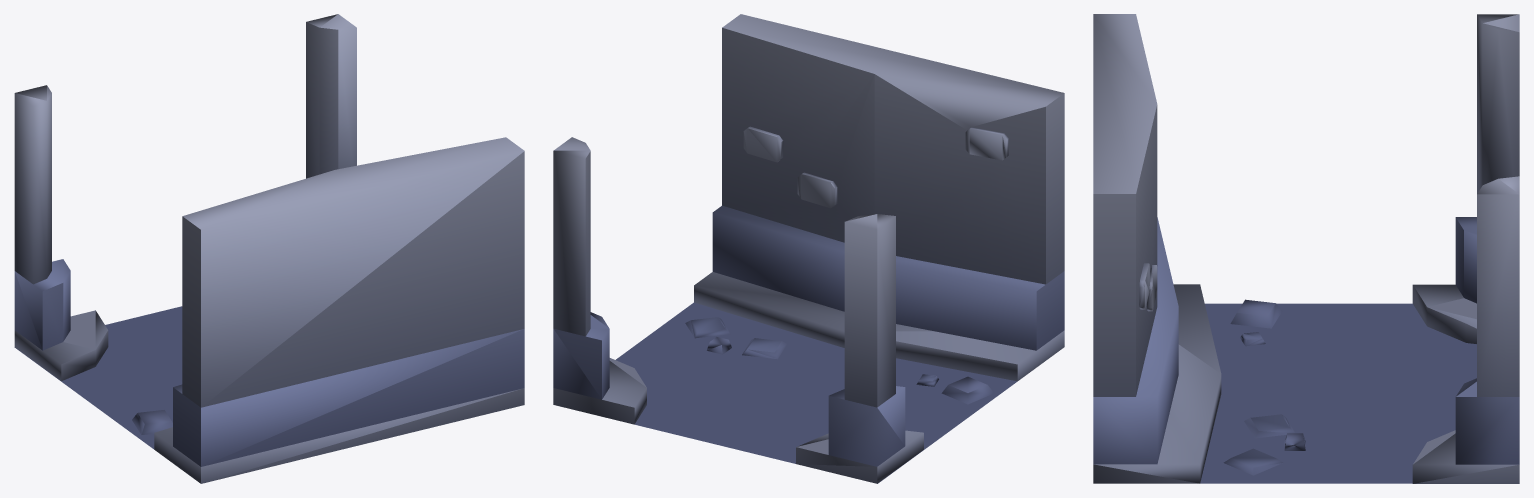
The model's file is corridor-junction_lev2.glb.
3 views of the same model, side by side, from view 1: azimuth 30°, elevation 25°; view 2: azimuth 150°, elevation 25°; view 3: azimuth 270°, elevation 25° (orthographic). The views are drawn at different scales.
Visible parts, largest first — view 1: corridor-junction_lev2; view 2: corridor-junction_lev2; view 3: corridor-junction_lev2.
Boxes of the visible parts, left/top/right/bottom form: corridor-junction_lev2: left=14, top=14, right=524, bottom=483; corridor-junction_lev2: left=553, top=14, right=1064, bottom=483; corridor-junction_lev2: left=1093, top=14, right=1519, bottom=483.
Size of the model in its own units: 4.01 by 3 by 4.
1 material, 1 textured.
